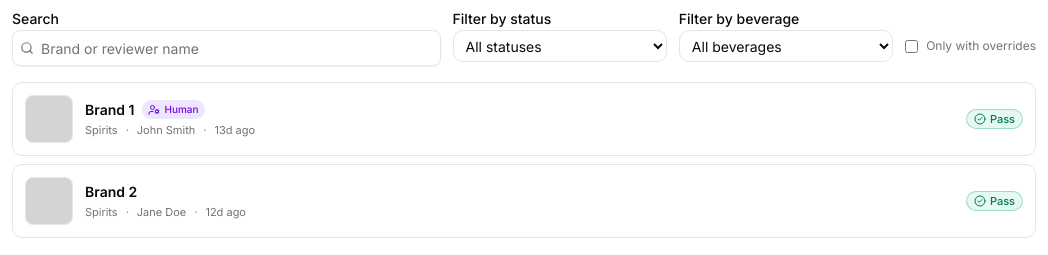
ReviewHistoryList › filters by has-overrides
Click the checkbox labelled "Only with overrides": (912,46) [905, 40, 918, 52]
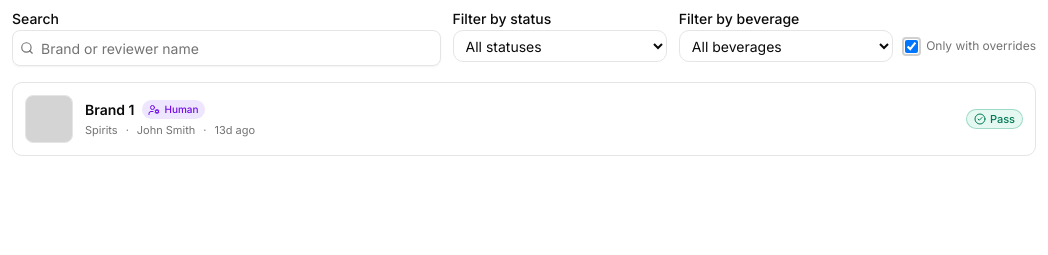
expect the number of list items with test id "review-history-row" is 1: met, box [12, 82, 1036, 156]
